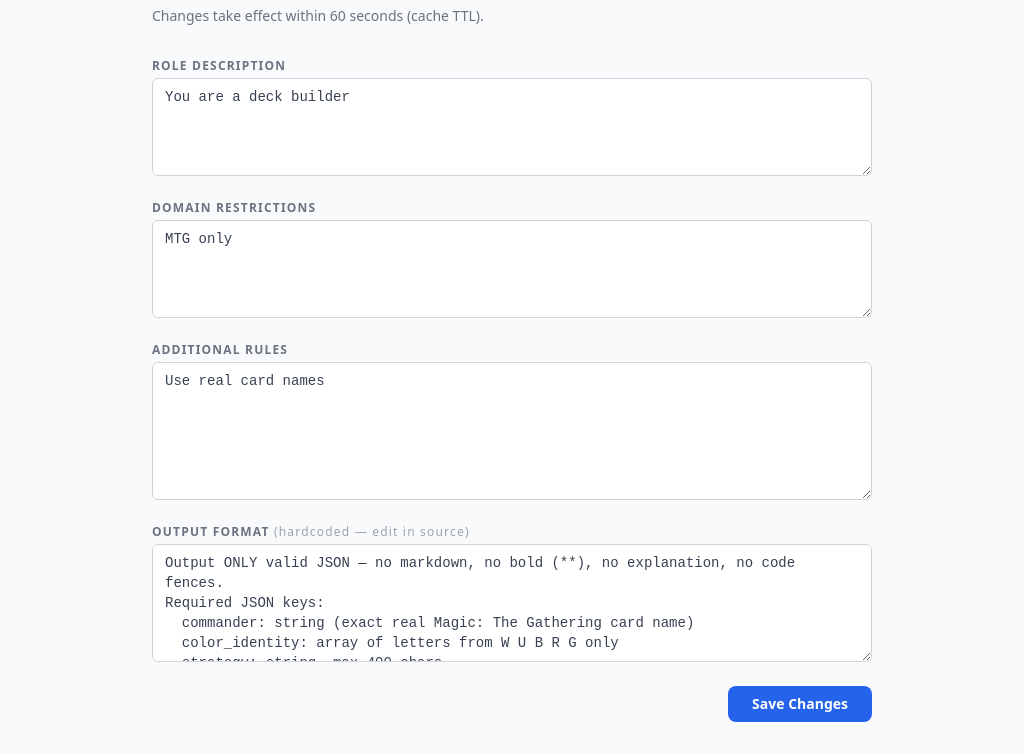
Test case: AdminMasterPrompt › shows Saved! after successful save
(page scrolled)
Check: the text box showing "You are a deck builder" below "Role Description" is shown, box top-left (152, 78), bottom-right (872, 176)
Click the button "Save Changes" at [800, 704], box top-left (728, 686), bottom-right (872, 722)
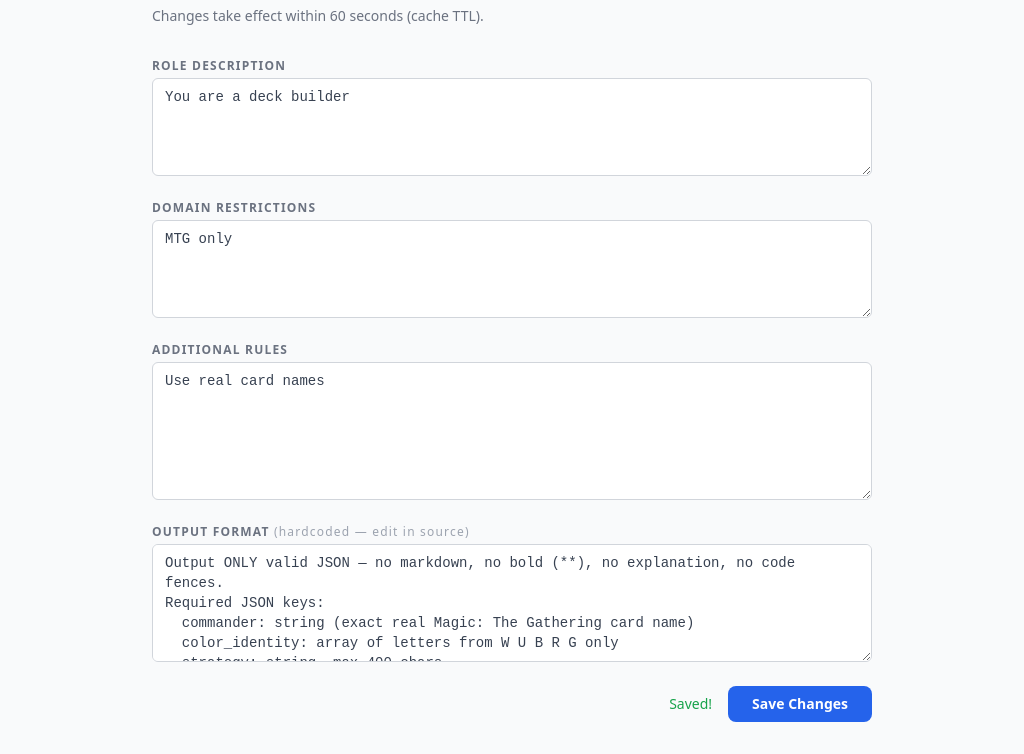
Check: the text "Saved!" is shown, box top-left (669, 694), bottom-right (712, 714)
